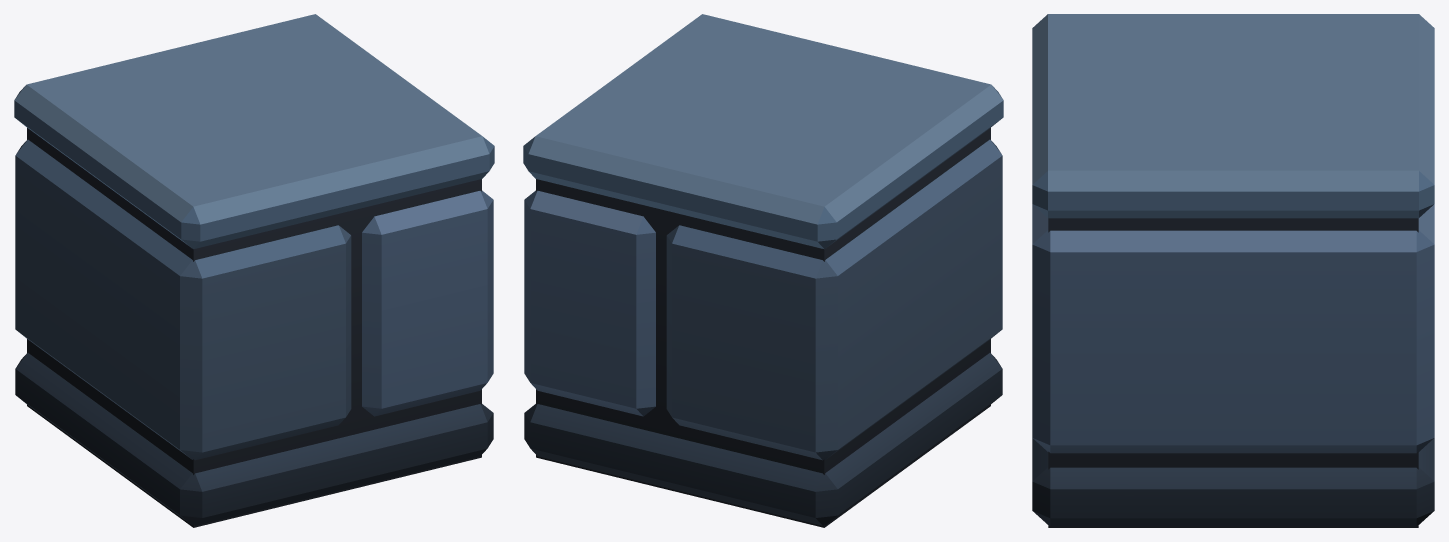
File: wall-block.glb
The picture shows the model from 3 angles, left to right: view 1: azimuth 30°, elevation 25°; view 2: azimuth 150°, elevation 25°; view 3: azimuth 270°, elevation 25°; orthographic projection. The views are drawn at different scales.
Parts seen in each view (by area): view 1: mesh_wall_block; view 2: mesh_wall_block; view 3: mesh_wall_block.
Part boxes in pixels (<box>): mesh_wall_block: <box>14,14,494,527</box>; mesh_wall_block: <box>523,14,1003,527</box>; mesh_wall_block: <box>1032,14,1434,527</box>.
Size of the model in its own units: 1 by 0.98 by 1.
